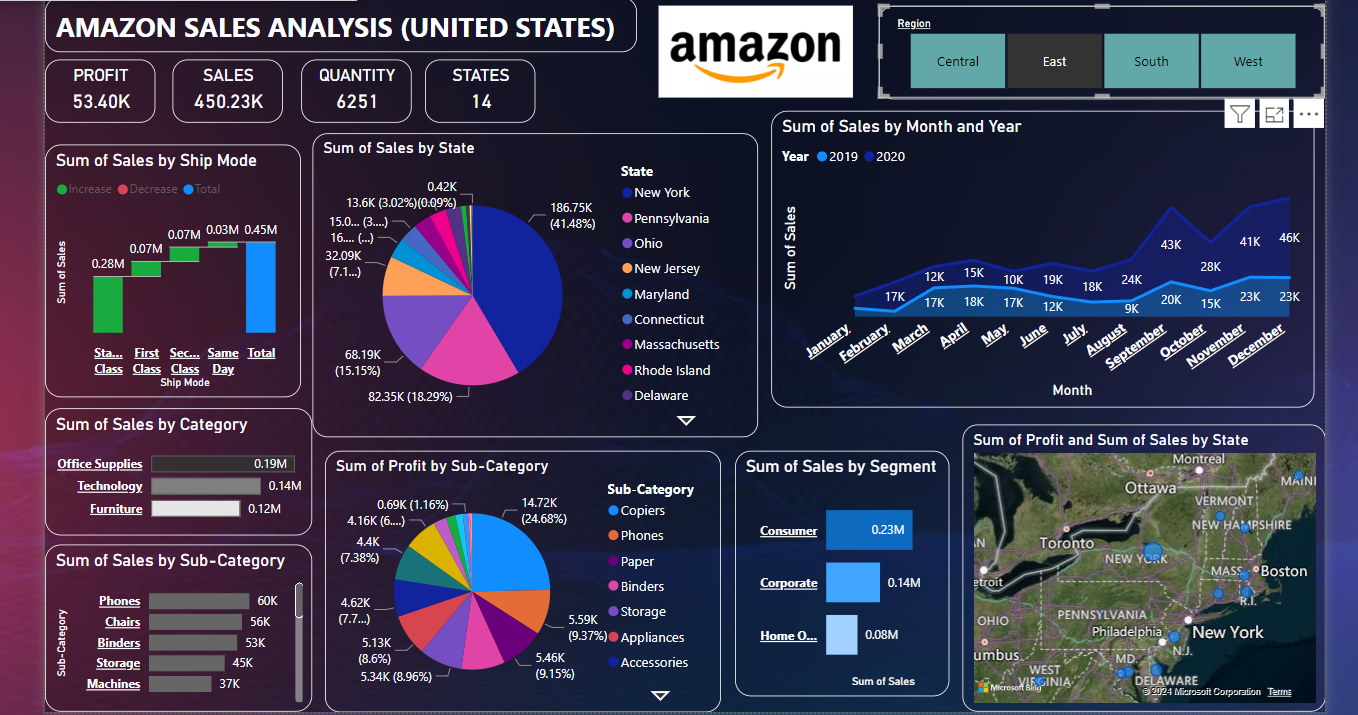

Layout of this report page (visuals, bound fields, positions):
{"tool":"powerbi","page":{"name":"Page 1","canvas":[1280,720],"ordinal":0},"visuals":[{"type":"barChart","fields":{"Category":["SuperStore_Sales_Dataset.Category"],"Y":["Sum(SuperStore_Sales_Dataset.Sales)"]},"box":[0,415.7,267.1,127.1],"z":0},{"type":"clusteredBarChart","fields":{"Category":["SuperStore_Sales_Dataset.Sub-Category"],"Y":["Sum(SuperStore_Sales_Dataset.Sales)"]},"box":[0,552.9,267.1,167.1],"z":1000},{"type":"waterfallChart","fields":{"Category":["SuperStore_Sales_Dataset.Ship Mode"],"Y":["Sum(SuperStore_Sales_Dataset.Sales)"]},"box":[0,152.9,255.7,252.9],"z":2000},{"type":"stackedAreaChart","fields":{"Y":["Sum(SuperStore_Sales_Dataset.Sales)"],"Category":["SuperStore_Sales_Dataset.Order Date.Variation.Date Hierarchy.Month"],"Series":["SuperStore_Sales_Dataset.Order Date.Variation.Date Hierarchy.Year"]},"box":[725.7,118.6,542.9,297.1],"z":3000},{"type":"pieChart","fields":{"Category":["SuperStore_Sales_Dataset.Sub-Category"],"Y":["Sum(SuperStore_Sales_Dataset.Profit)"]},"box":[280,458.6,395.7,261.4],"z":4000},{"type":"map","fields":{"Category":["SuperStore_Sales_Dataset.State"],"Size":["Sum(SuperStore_Sales_Dataset.Profit)"]},"box":[917.1,432.9,362.9,287.1],"z":5000},{"type":"barChart","fields":{"Category":["SuperStore_Sales_Dataset.Segment"],"Y":["Sum(SuperStore_Sales_Dataset.Sales)"]},"box":[690,458.6,214.3,245.7],"z":6000},{"type":"slicer","fields":{"Values":["SuperStore_Sales_Dataset.Region"]},"box":[833.3,13.3,446.7,93.3],"z":7000},{"type":"textbox","box":[0,5,591.7,55],"z":8000},{"type":"card","title":"PROFIT","fields":{"Values":["Sum(SuperStore_Sales_Dataset.Profit)"]},"box":[0,67.1,110,62.9],"z":9000},{"type":"card","title":"SALES","fields":{"Values":["Sum(SuperStore_Sales_Dataset.Sales)"]},"box":[127.1,67.1,110,62.9],"z":10000},{"type":"card","title":"QUANTITY","fields":{"Values":["Sum(SuperStore_Sales_Dataset.Quantity)"]},"box":[255.7,67.1,110,62.9],"z":11000},{"type":"card","title":"STATES","fields":{"Values":["Count(SuperStore_Sales_Dataset.State)"]},"box":[380,67.1,110,62.9],"z":12000},{"type":"pieChart","fields":{"Category":["SuperStore_Sales_Dataset.State"],"Y":["Sum(SuperStore_Sales_Dataset.Sales)"]},"box":[267.1,141.4,445.7,304.3],"z":13000},{"type":"image","box":[613.8,0,215,118.8],"z":14000},{"type":"card","title":"avg delivery","fields":{"Values":["Avg(SuperStore_Sales_Dataset.AvgDelivery)"]},"box":[500,67.5,113.8,62.5],"z":15000}]}

Visuals, with their boxes in screenshot pixels (x1, y1, x2, y2):
barChart - SuperStore_Sales_Dataset.Category x Sum(SuperStore_Sales_Dataset.Sales): (left=35, top=393, right=306, bottom=522)
clusteredBarChart - SuperStore_Sales_Dataset.Sub-Category x Sum(SuperStore_Sales_Dataset.Sales): (left=35, top=533, right=306, bottom=702)
waterfallChart - SuperStore_Sales_Dataset.Ship Mode x Sum(SuperStore_Sales_Dataset.Sales): (left=35, top=127, right=295, bottom=383)
stackedAreaChart - Sum(SuperStore_Sales_Dataset.Sales) x SuperStore_Sales_Dataset.Order Date.Variation.Date Hierarchy.Month: (left=772, top=92, right=1322, bottom=393)
pieChart - SuperStore_Sales_Dataset.Sub-Category x Sum(SuperStore_Sales_Dataset.Profit): (left=319, top=437, right=721, bottom=702)
map - SuperStore_Sales_Dataset.State x Sum(SuperStore_Sales_Dataset.Profit): (left=966, top=411, right=1334, bottom=702)
barChart - SuperStore_Sales_Dataset.Segment x Sum(SuperStore_Sales_Dataset.Sales): (left=735, top=437, right=953, bottom=686)
slicer - SuperStore_Sales_Dataset.Region: (left=881, top=0, right=1334, bottom=80)
textbox: (left=35, top=0, right=636, bottom=33)
"PROFIT" card: (left=35, top=40, right=147, bottom=104)
"SALES" card: (left=164, top=40, right=276, bottom=104)
"QUANTITY" card: (left=295, top=40, right=406, bottom=104)
"STATES" card: (left=421, top=40, right=532, bottom=104)
pieChart - SuperStore_Sales_Dataset.State x Sum(SuperStore_Sales_Dataset.Sales): (left=306, top=115, right=758, bottom=424)
image: (left=658, top=0, right=876, bottom=92)
"avg delivery" card: (left=543, top=40, right=658, bottom=104)
